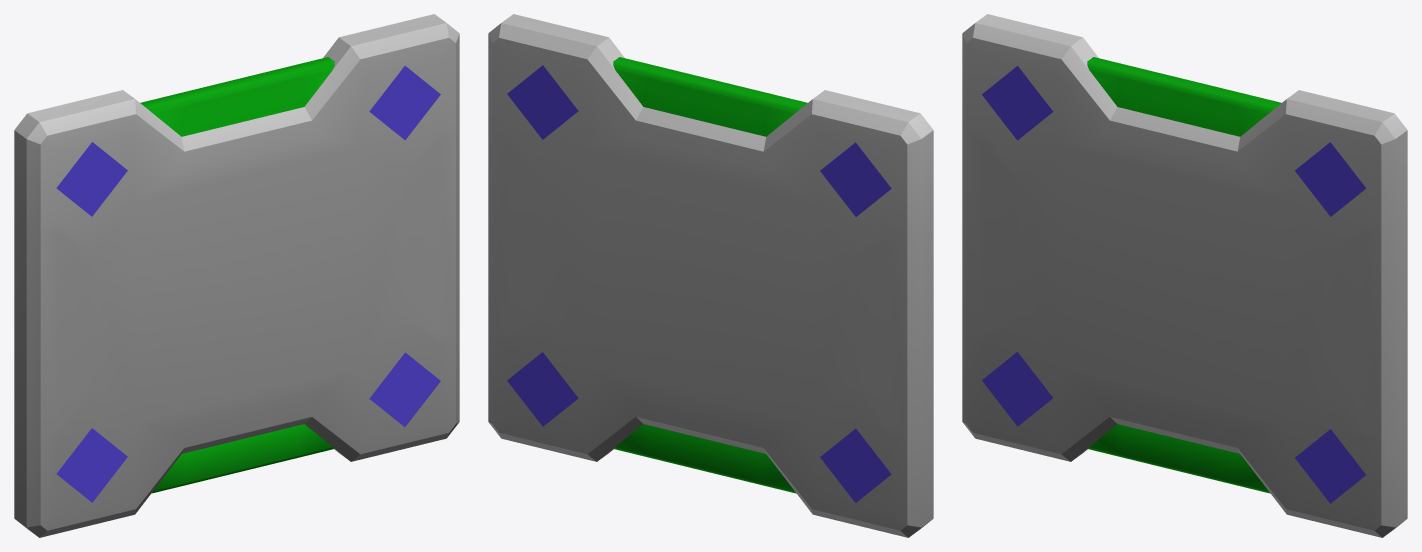
The model's file is env_undergroundstation_foundation_wallpanel01.fbx.
3 renders of one model, left to right at view 1: azimuth 30°, elevation 25°; view 2: azimuth 150°, elevation 25°; view 3: azimuth 330°, elevation 25°, orthographic.
Parts seen in each view (by area): view 1: env_undergroundstation_foundation_wallpanel01, env_undergroundstation_foundation_wallpanel02, decals; view 2: env_undergroundstation_foundation_wallpanel01, env_undergroundstation_foundation_wallpanel02, decals; view 3: env_undergroundstation_foundation_wallpanel01, env_undergroundstation_foundation_wallpanel02, decals.
Part boxes in pixels (x1,y1,x2,y2): env_undergroundstation_foundation_wallpanel01: (14,14,459,537); env_undergroundstation_foundation_wallpanel02: (140,57,334,493); decals: (56,66,440,502); env_undergroundstation_foundation_wallpanel01: (488,14,933,537); env_undergroundstation_foundation_wallpanel02: (613,57,807,493); decals: (507,65,891,502); env_undergroundstation_foundation_wallpanel01: (962,14,1407,537); env_undergroundstation_foundation_wallpanel02: (1087,57,1281,493); decals: (982,66,1366,503).
Size of the model in its own units: 37.11 by 34.03 by 3.35.
